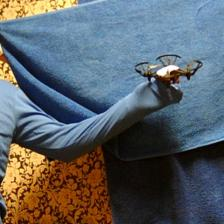drone: (134, 54, 204, 89)
